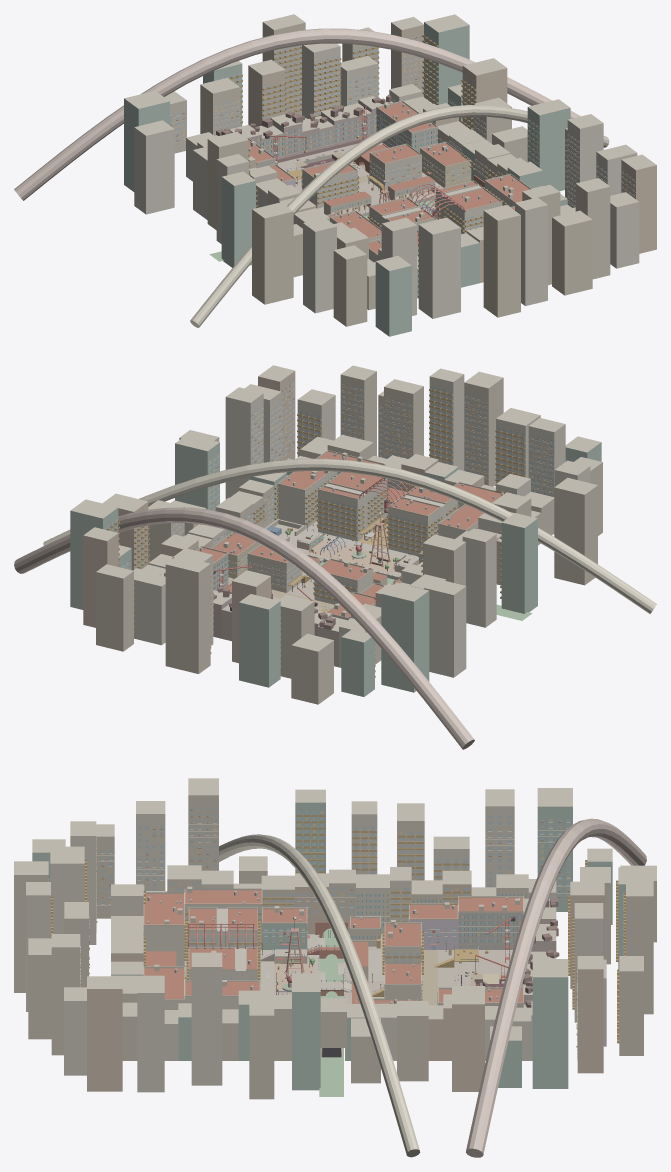
Rendered from BairroArterial.glb.
The picture shows the model from 3 angles, top to bottom: view 1: azimuth 30°, elevation 25°; view 2: azimuth 150°, elevation 25°; view 3: azimuth 270°, elevation 25°; orthographic projection. The views are drawn at different scales.
Visible parts, largest first — view 1: horizonte.01, horizonte.02, horizonte.00, perimetro.00, norte_centro.00, perimetro.01, avenida.00, nordeste.00, obra_ferida.00, chao.00, leste.00, oeste.00 (+1 smaller); view 2: horizonte.01, horizonte.00, horizonte.02, perimetro.00, avenida.00, norte_centro.00, praca.00, leste.00, nordeste.00, base_celulas.00, oeste.00, perimetro.01 (+2 smaller); view 3: horizonte.02, horizonte.01, perimetro.00, horizonte.00, noroeste.00, norte_centro.00, avenida.00, base_celulas.00, oeste.00, canal.00, chao.00, praca.00 (+5 smaller).
Boxes of the visible parts, x1,y1,x2,y2 form: horizonte.01: [124, 14, 639, 326]; horizonte.02: [14, 28, 656, 327]; horizonte.00: [164, 14, 460, 336]; perimetro.00: [186, 84, 575, 310]; norte_centro.00: [301, 143, 439, 214]; perimetro.01: [250, 94, 392, 163]; avenida.00: [367, 180, 502, 234]; nordeste.00: [376, 100, 471, 187]; obra_ferida.00: [265, 105, 388, 185]; chao.00: [276, 142, 443, 216]; leste.00: [483, 173, 531, 206]; oeste.00: [326, 210, 381, 241]; horizonte.01: [70, 365, 602, 692]; horizonte.00: [83, 408, 601, 704]; horizonte.02: [14, 365, 656, 749]; perimetro.00: [133, 434, 554, 667]; avenida.00: [316, 472, 459, 556]; norte_centro.00: [228, 544, 387, 609]; praca.00: [297, 512, 418, 573]; leste.00: [265, 471, 338, 541]; nordeste.00: [164, 532, 260, 591]; base_celulas.00: [316, 450, 503, 515]; oeste.00: [419, 504, 483, 563]; perimetro.01: [213, 586, 278, 641]; horizonte.02: [87, 818, 646, 1157]; horizonte.01: [14, 778, 572, 1088]; perimetro.00: [111, 865, 558, 1060]; horizonte.00: [32, 821, 656, 1073]; noroeste.00: [350, 896, 523, 951]; norte_centro.00: [350, 920, 437, 1005]; avenida.00: [186, 907, 260, 990]; base_celulas.00: [143, 892, 186, 1009]; oeste.00: [184, 886, 309, 955]; canal.00: [315, 922, 347, 1096]; chao.00: [184, 934, 522, 1003]; praca.00: [260, 916, 315, 994].
Size of the model in its own units: 345 by 88.16 by 315.
